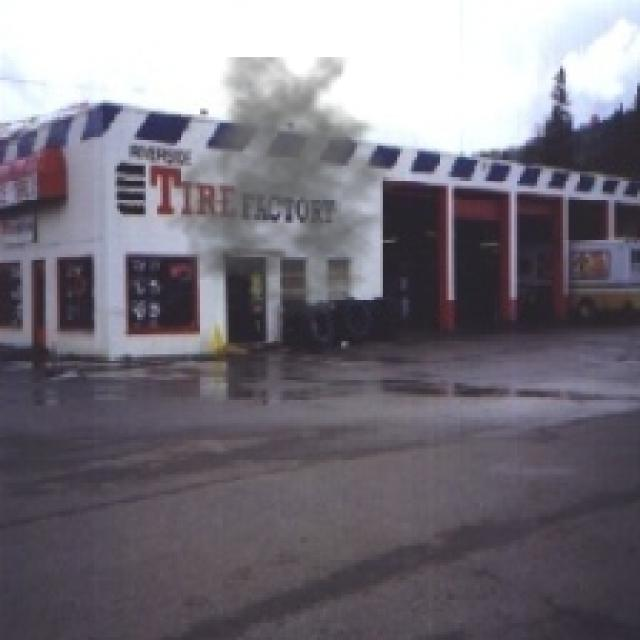smoke: (163, 57, 414, 320)
